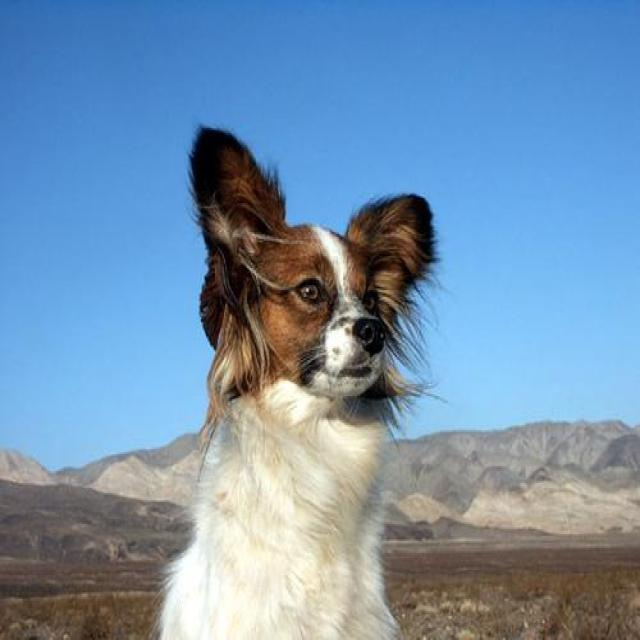papillon: (164, 123, 443, 638)
